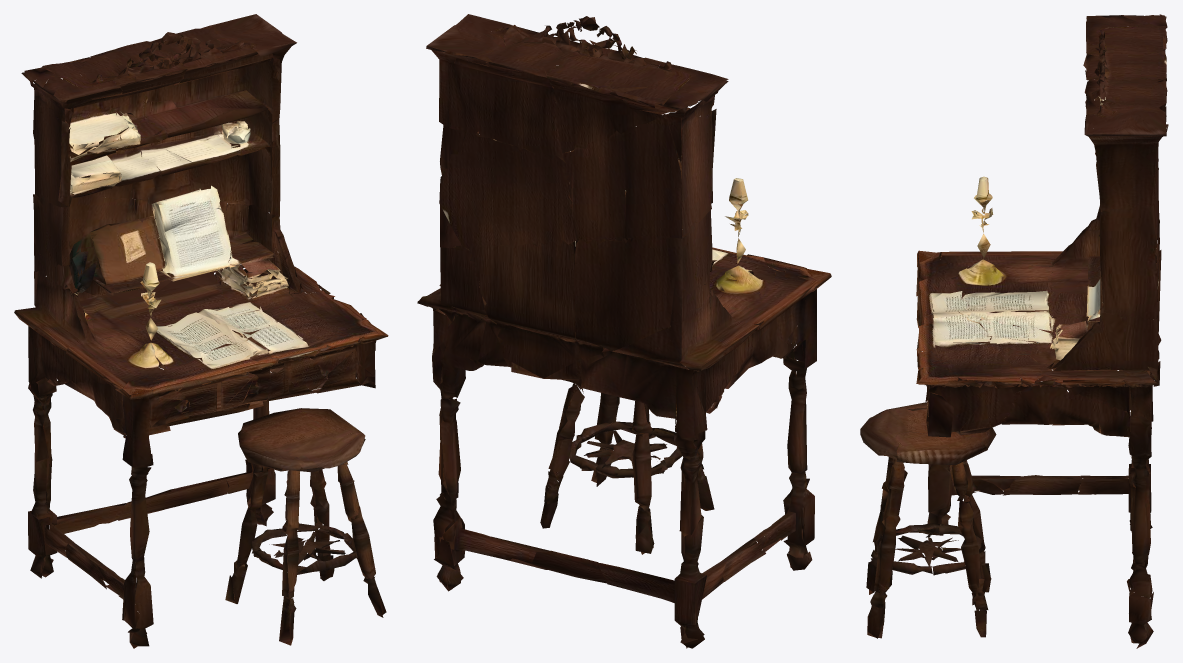
The model's file is clerk-desk-interior-lod.glb.
3 renders of one model, left to right at view 1: azimuth 30°, elevation 25°; view 2: azimuth 150°, elevation 25°; view 3: azimuth 270°, elevation 25°, orthographic. The views are drawn at different scales.
Visible parts, largest first — view 1: Mesh_0; view 2: Mesh_0; view 3: Mesh_0.
Part boxes in pixels (box(x1,y1,x2,y2)): Mesh_0: box(14, 14, 388, 648); Mesh_0: box(417, 14, 831, 648); Mesh_0: box(860, 14, 1168, 648).
Size of the model in its own units: 0.9683 by 1.91 by 0.9676.
Materials: 1 (1 with a texture image).
